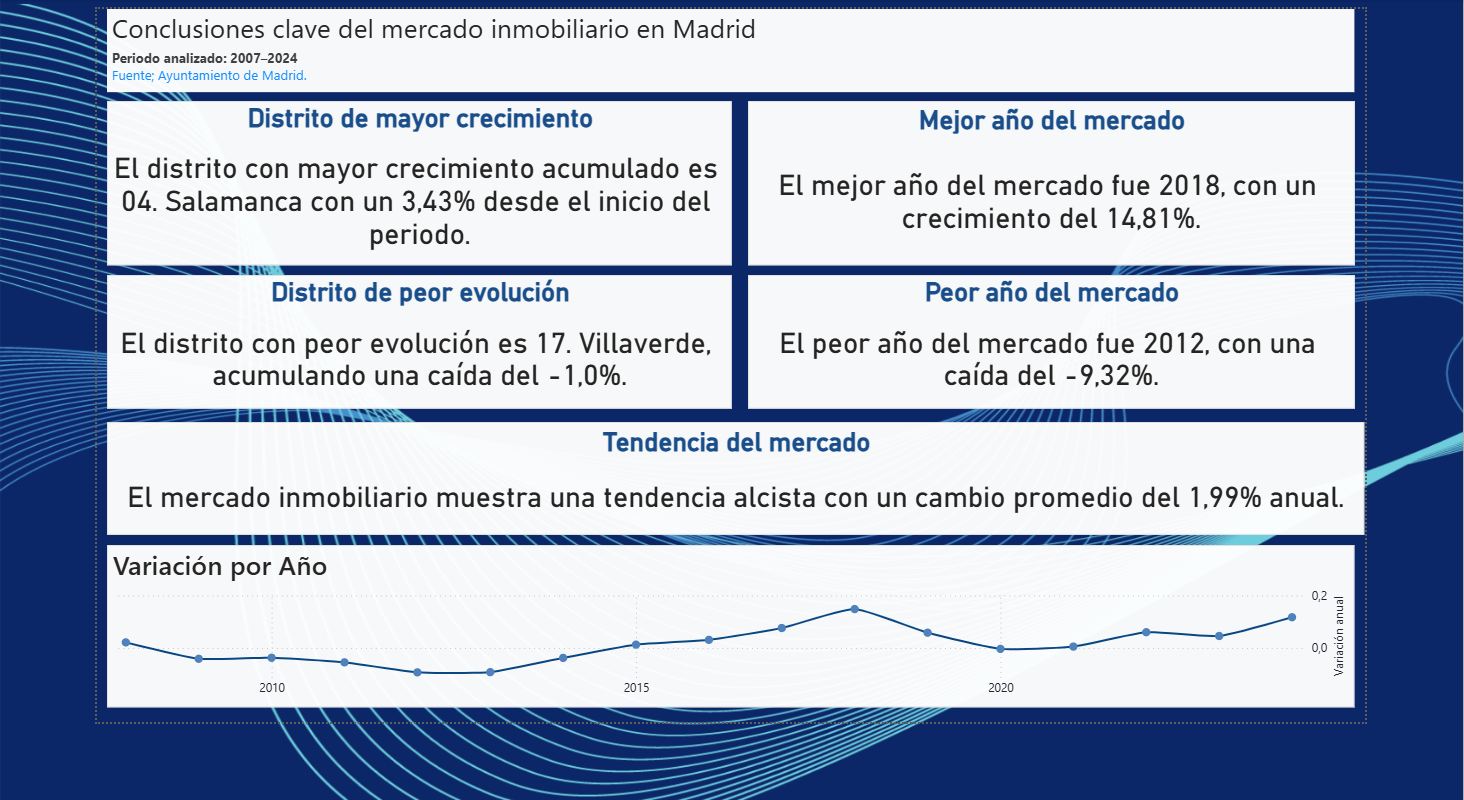

The dashboard page shown, as its layout file describes it:
{"tool":"powerbi","page":{"name":"Conclusiones","canvas":[1280,720],"ordinal":2},"visuals":[{"type":"textbox","title":"Conclusiones clave del mercado inmobiliario en Madrid","box":[10,0,1260,83.8],"z":0},{"type":"card","title":"Distrito de mayor crecimiento","fields":{"Values":["Insights.Insight_DistritoMayorCrecimiento"]},"box":[10,92.5,631.2,166.2],"z":1000},{"type":"card","title":"Peor año del mercado","fields":{"Values":["Insights.Insight_PeorAño"]},"box":[657.5,268.8,612.5,135],"z":2000},{"type":"card","title":"Tendencia del mercado","fields":{"Values":["Insights.Insight_Tendencia"]},"box":[10,417.5,1270,113.8],"z":3000},{"type":"card","title":"Mejor año del mercado","fields":{"Values":["Insights.Insight_MejorAño"]},"box":[657.5,92.5,612.5,166.2],"z":4000},{"type":"card","title":"Distrito de peor evolución","fields":{"Values":["Insights.Insight_DistritoPeorEvolucion"]},"box":[10,268.8,631.2,135],"z":5000},{"type":"lineChart","title":"Variación por Año","fields":{"Category":["DimFecha.Año"],"Y":["FactPrecios.Variación YoY"]},"box":[10,541.2,1260,163.8],"z":6000}]}

Visuals, with their boxes in screenshot pixels (x1, y1, x2, y2), scaled from the page's 1280x720 canvas onto the 1464x800 screenshot:
"Conclusiones clave del mercado inmobiliario en Madrid" textbox: left=11, top=0, right=1453, bottom=93
"Distrito de mayor crecimiento" card: left=11, top=103, right=733, bottom=287
"Peor año del mercado" card: left=752, top=299, right=1453, bottom=449
"Tendencia del mercado" card: left=11, top=464, right=1463, bottom=590
"Mejor año del mercado" card: left=752, top=103, right=1453, bottom=287
"Distrito de peor evolución" card: left=11, top=299, right=733, bottom=449
"Variación por Año" lineChart: left=11, top=601, right=1453, bottom=783
